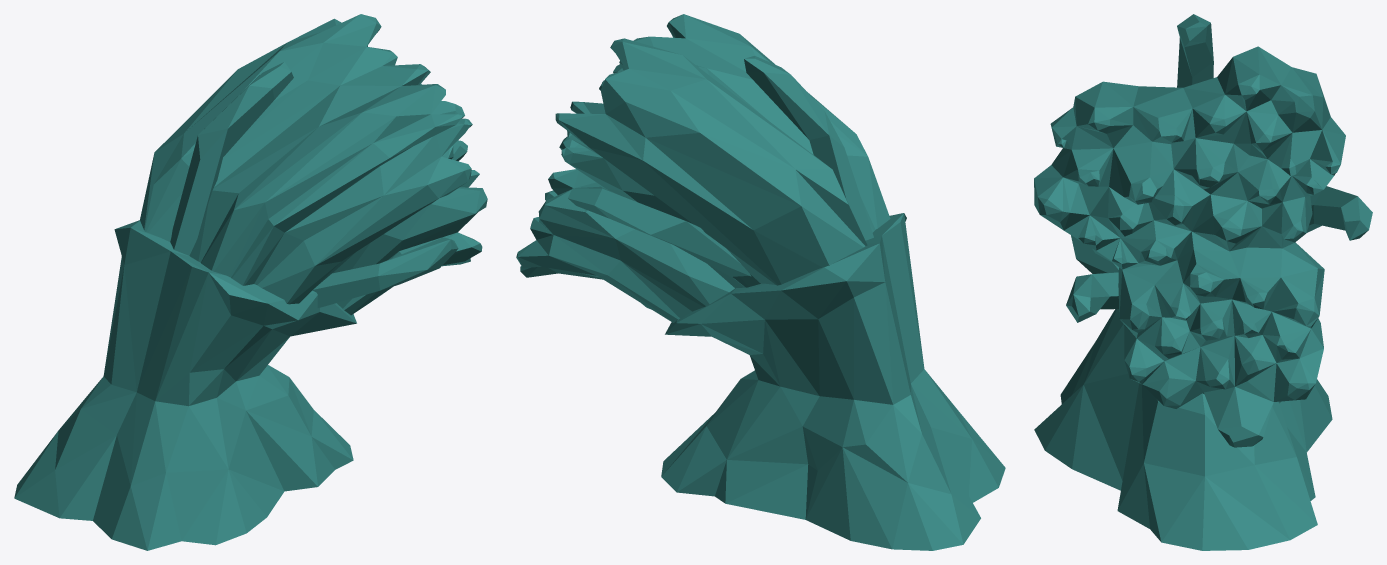
Rendered from SM_Sea_Anemone_Dead_D.fbx.
The picture shows the model from 3 angles, left to right: view 1: azimuth 30°, elevation 25°; view 2: azimuth 150°, elevation 25°; view 3: azimuth 270°, elevation 25°; orthographic projection. The views are drawn at different scales.
Visible parts, largest first — view 1: sea-anemone-dead-d; view 2: sea-anemone-dead-d; view 3: sea-anemone-dead-d.
Part boxes in pixels (bbox=[...]): sea-anemone-dead-d: bbox=[14, 14, 487, 550]; sea-anemone-dead-d: bbox=[516, 14, 1005, 550]; sea-anemone-dead-d: bbox=[1034, 14, 1372, 550].
Size of the model in its own units: 0.8317 by 0.7323 by 0.4517.
